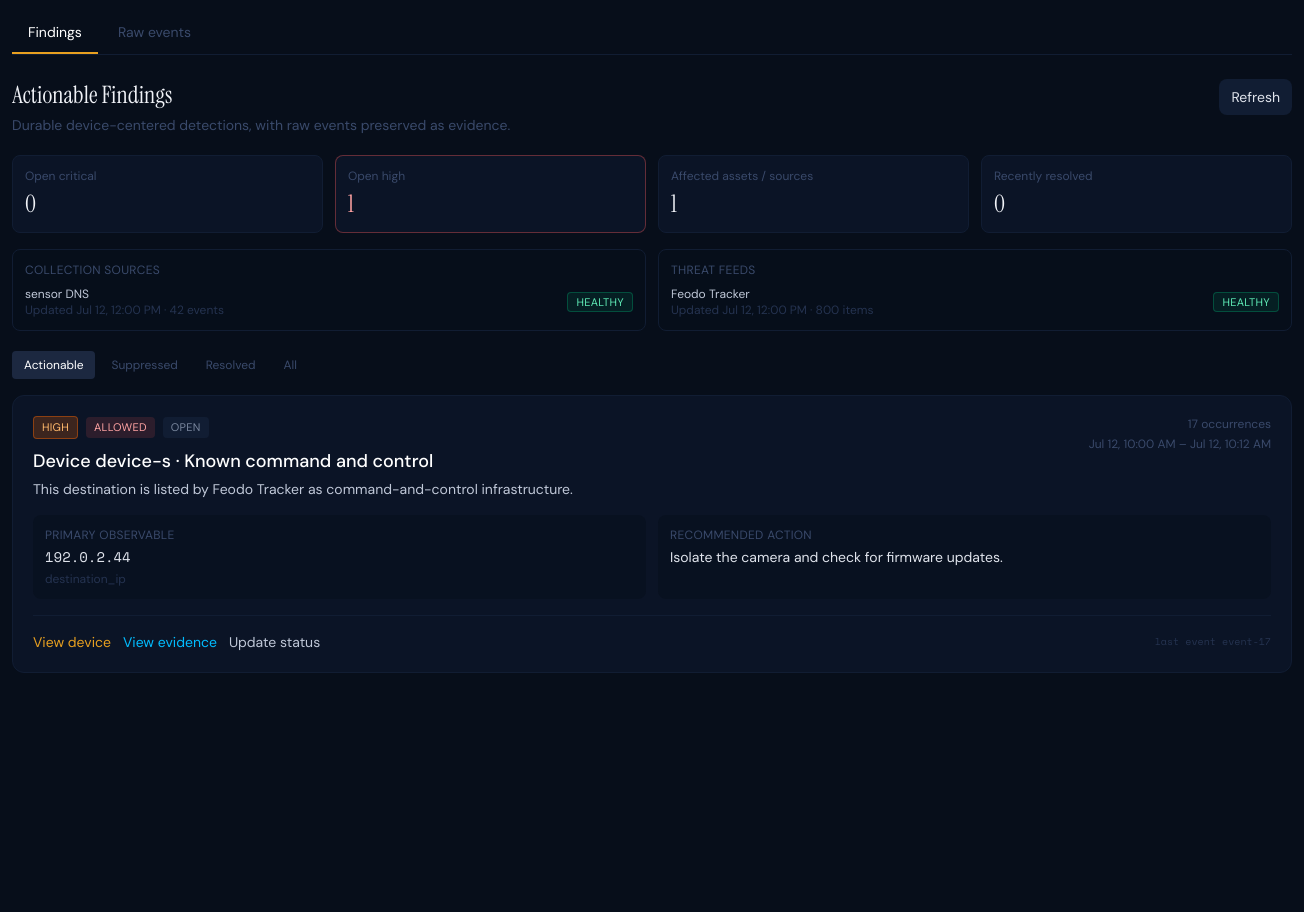
Test case: findings workspace › keeps raw events as an explicit secondary view
This screenshot has width=1304, height=912.
Expected: the heading "Actionable Findings" is shown, [12, 79, 172, 110]
Expected: the text "Legacy raw event table" is not shown
Click the tab "Raw events": (154, 33) [102, 12, 207, 54]
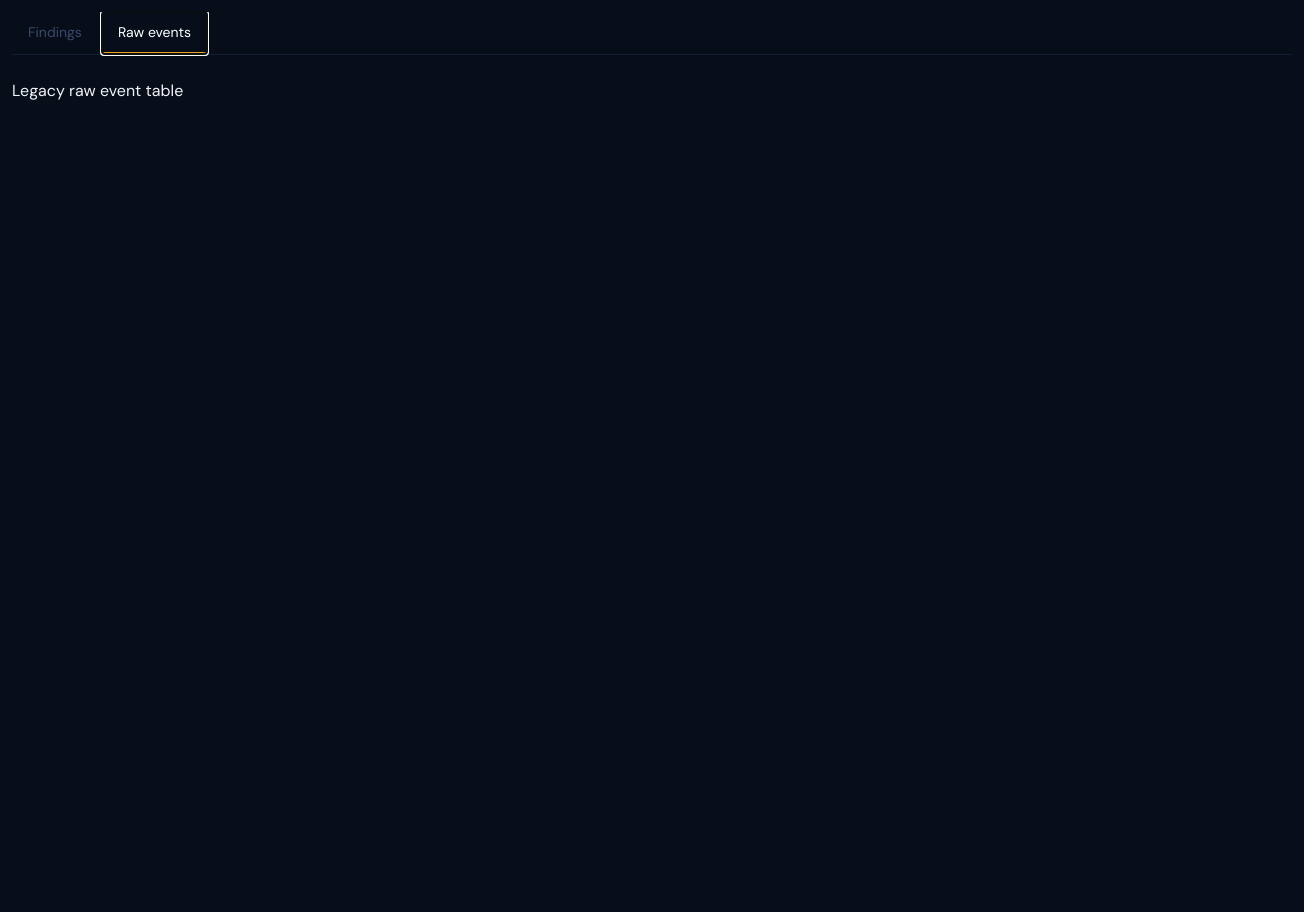
Expected: the text "Legacy raw event table" is shown, [12, 80, 183, 101]
